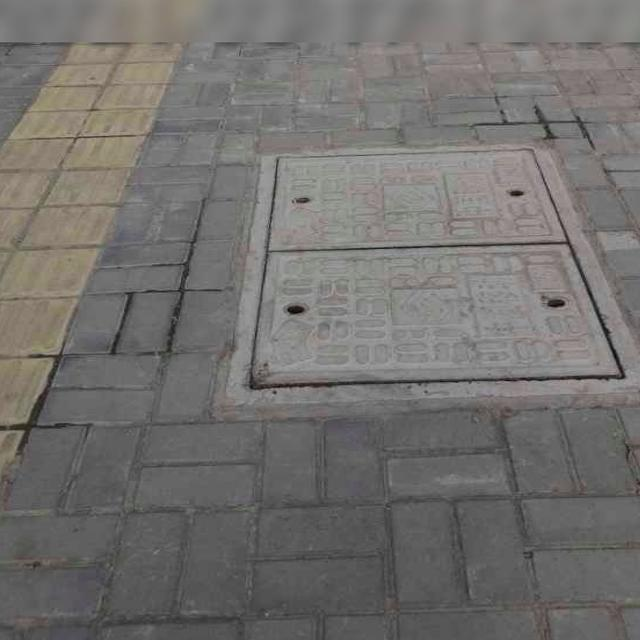good: (225, 141, 640, 399)
